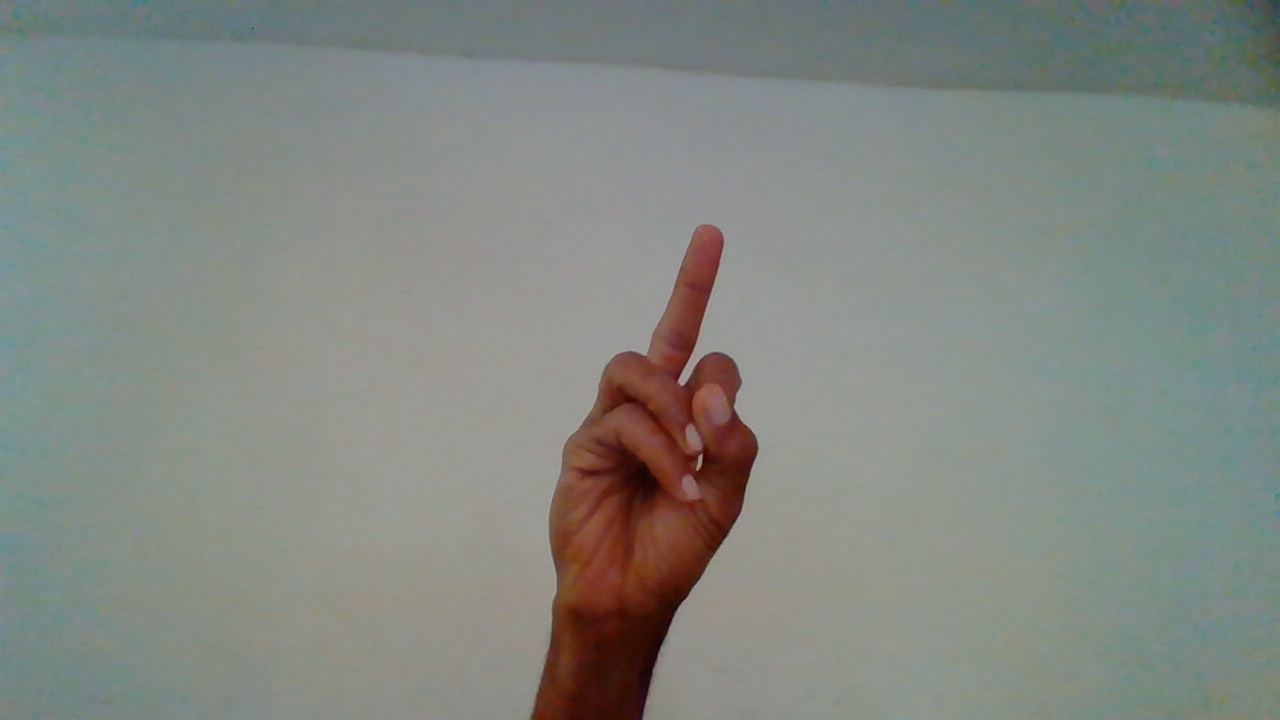he: (546, 219, 771, 705)
